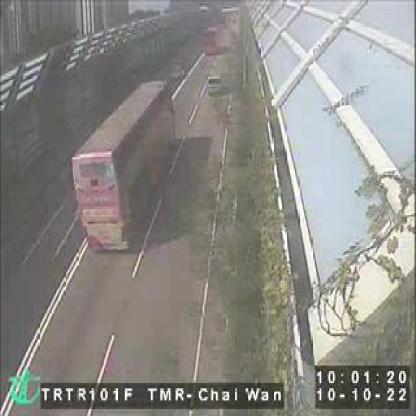Bus: (72, 76, 176, 254), (202, 15, 225, 58)
Car: (207, 76, 220, 94)
